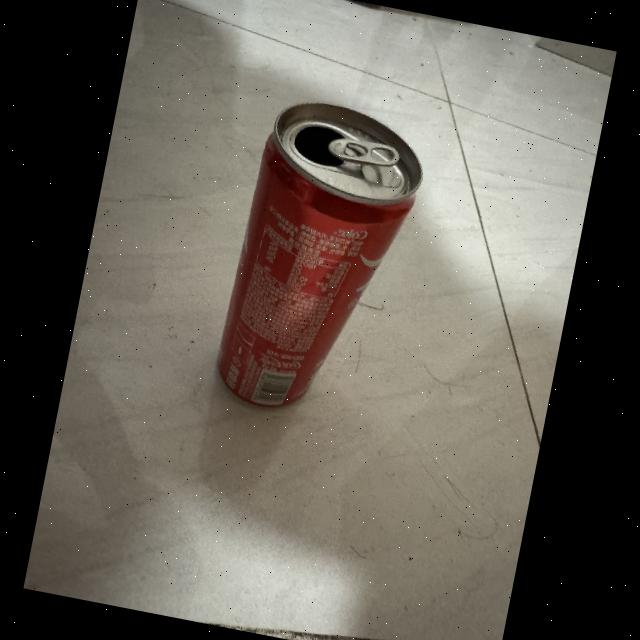Cola: (187, 71, 449, 444)
